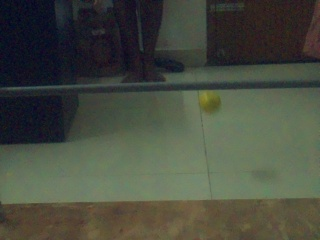ball: (199, 91, 221, 113)
